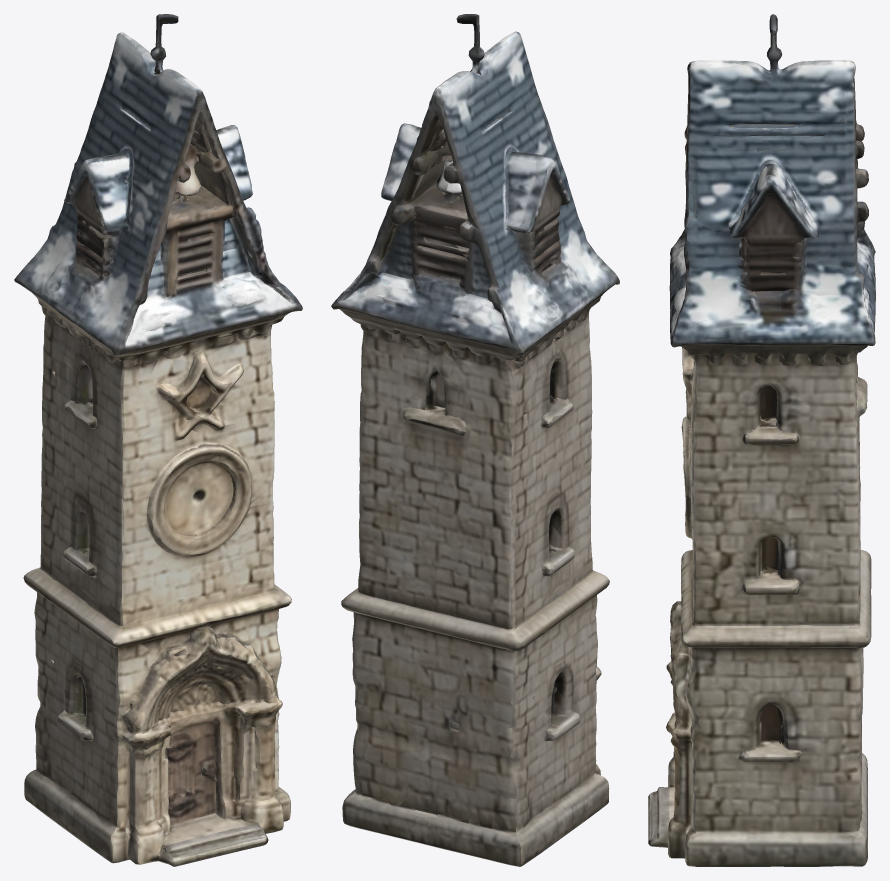
Rendered from aholo-g1-clock.glb.
3 views of the same model, side by side, from view 1: azimuth 30°, elevation 25°; view 2: azimuth 150°, elevation 25°; view 3: azimuth 270°, elevation 25° (orthographic).
Visible parts, largest first — view 1: geometry_0; view 2: geometry_0; view 3: geometry_0.
Part boxes in pixels (bbox=[...]): geometry_0: bbox=[14, 14, 302, 866]; geometry_0: bbox=[331, 14, 619, 866]; geometry_0: bbox=[648, 14, 875, 866].
Size of the model in its own units: 3.06 by 12 by 3.06.
Materials: 1 (1 with a texture image).
